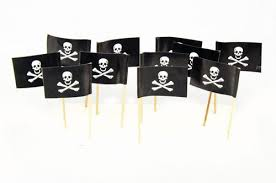Jolly Roger Flag: (188, 57, 241, 101), (10, 52, 62, 91), (78, 50, 131, 86), (40, 63, 95, 97), (213, 39, 263, 74), (137, 65, 188, 98), (44, 33, 92, 67)
